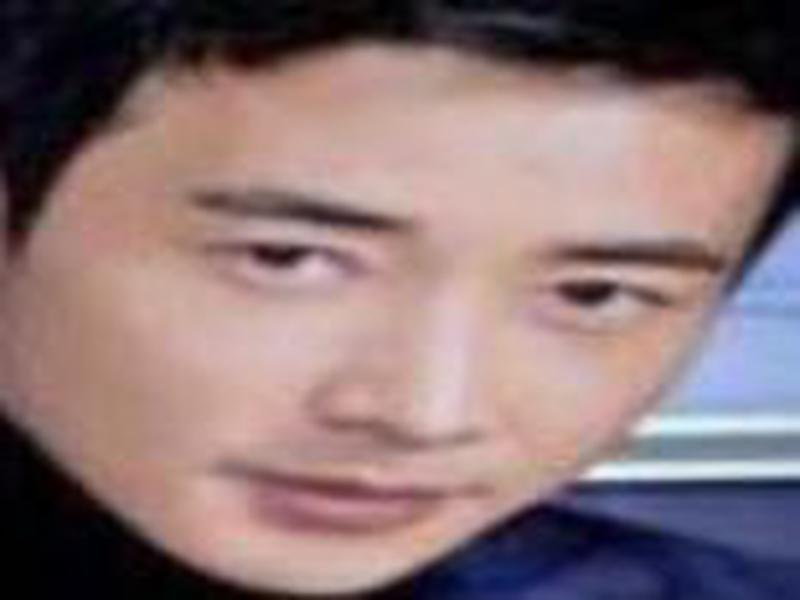without_mask: (47, 45, 766, 585)
